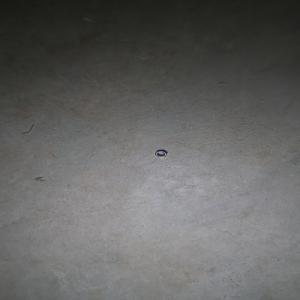Nut: (154, 150, 167, 158)
